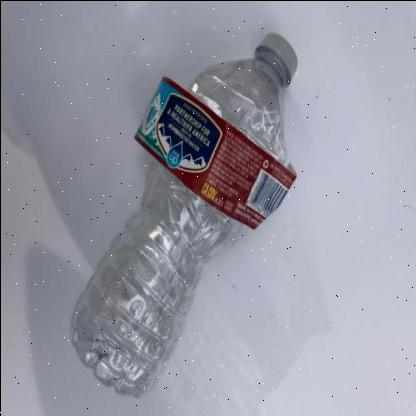Plastic Bottle: (70, 32, 296, 396)
